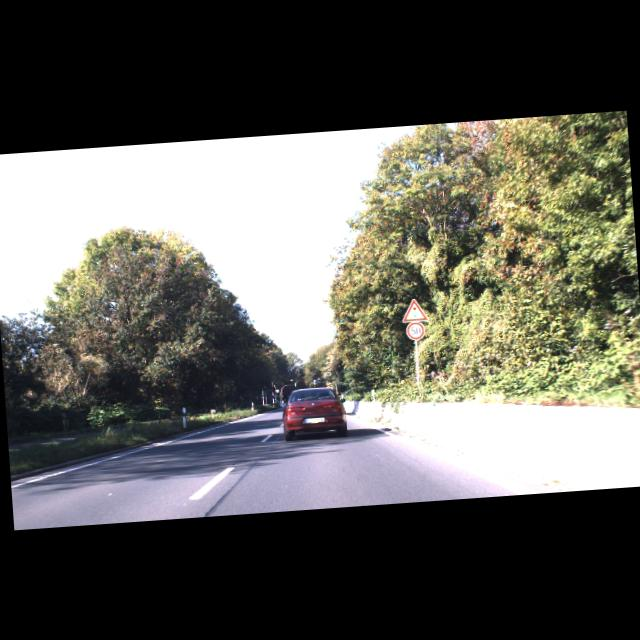danger: (399, 296, 428, 322)
prohibitory: (405, 320, 425, 340)
